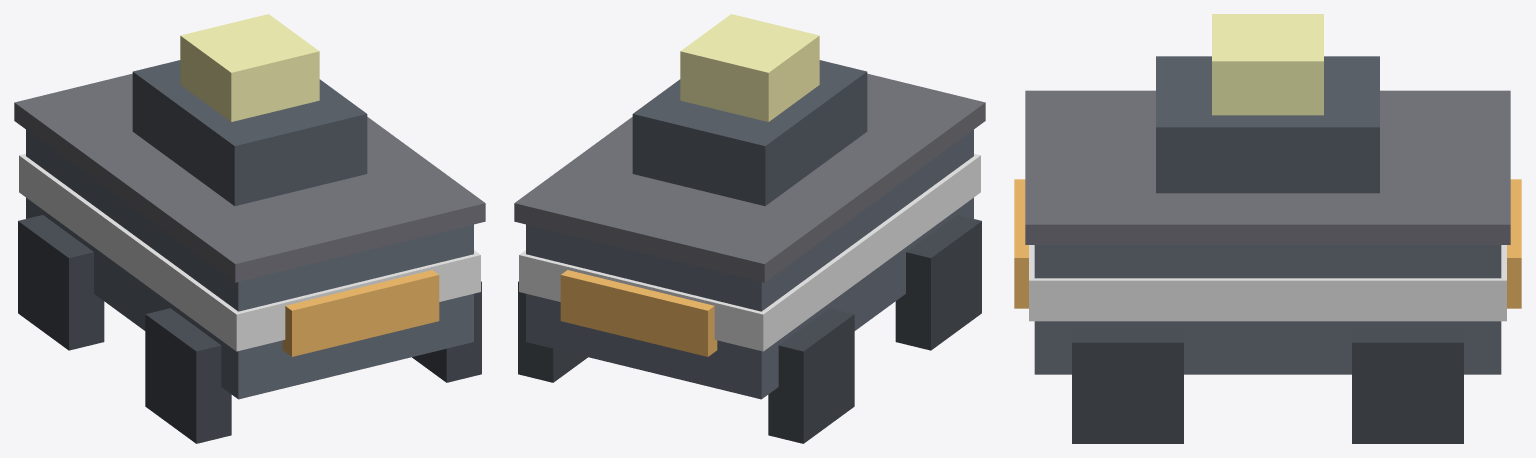
The model's file is CART.gltf.
3 views of the same model, side by side, from view 1: azimuth 30°, elevation 25°; view 2: azimuth 150°, elevation 25°; view 3: azimuth 270°, elevation 25° (orthographic). The views are drawn at different scales.
Parts seen in each view (by area): view 1: CART; view 2: CART; view 3: CART.
Part boxes in pixels (x1=…): CART: x1=14, y1=14, x2=485, y2=443; CART: x1=514, y1=14, x2=985, y2=443; CART: x1=1014, y1=14, x2=1521, y2=443.
Bounding box in the file's own units: 1.94 × 1.95 × 2.72.
